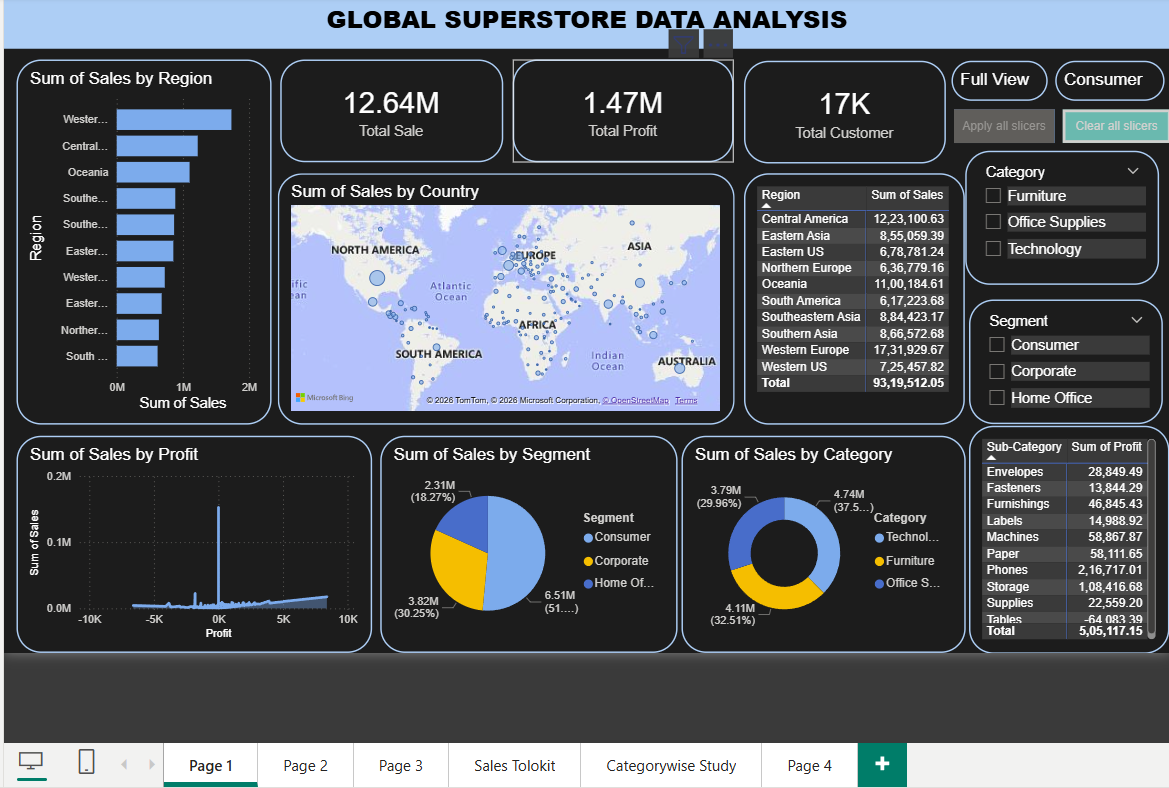

The page's visual inventory and layout, read from the dashboard file:
{"tool":"powerbi","page":{"name":"Page 1","canvas":[1280,720],"ordinal":0},"visuals":[{"type":"barChart","fields":{"Y":["Sum(Orders.Sales)"],"Category":["Orders.Region"]},"box":[13.5,68.5,280,401.1],"z":0},{"type":"textbox","box":[0,0,1280,57.1],"z":1000},{"type":"donutChart","fields":{"Y":["Sum(Orders.Sales)"],"Category":["Orders.Category"]},"box":[743.5,481.8,311.8,238.5],"z":2000},{"type":"pivotTable","fields":{"Rows":["Orders.Region"],"Values":["Sum(Orders.Sales)"]},"box":[812.2,193.3,242.8,276.1],"z":3000},{"type":"pivotTable","fields":{"Rows":["Orders.Sub-Category"],"Values":["Sum(Orders.Profit)"]},"box":[1060,470,220,250],"z":4000},{"type":"map","fields":{"Size":["Sum(Orders.Sales)"],"Category":["Orders.Country"]},"box":[300,193.8,501.2,276.2],"z":5000},{"type":"card","fields":{"Values":["Date_table.Total Sale"]},"box":[303.3,68.5,244.6,112.5],"z":6000},{"type":"card","fields":{"Values":["Date_table.Total Profit"]},"box":[558.8,68.8,242.5,112.5],"z":7000},{"type":"card","fields":{"Values":["Date_table.Total Customer"]},"box":[812,69.7,221.3,112.5],"z":8000},{"type":"pieChart","fields":{"Category":["Orders.Segment"],"Y":["Sum(Orders.Sales)"]},"box":[413.3,481.8,326.5,238.5],"z":9000},{"type":"slicer","fields":{"Values":["Orders.Segment"]},"box":[1060,331.4,212.9,137.1],"z":10000},{"type":"slicer","fields":{"Values":["Orders.Category"]},"box":[1055.7,168.6,212.9,147.1],"z":11000},{"type":"actionButton","title":"Full View","box":[1040.6,69.4,105.9,44.1],"z":12000},{"type":"actionButton","title":"Consumer","box":[1153.5,69.4,120,44.1],"z":13000},{"type":"actionButton","box":[1043.3,124.2,110,36.7],"z":14000},{"type":"actionButton","box":[1161.7,124.2,118.3,36.7],"z":15000},{"type":"areaChart","fields":{"Category":["Orders.Profit"],"Y":["Sum(Orders.Sales)"]},"box":[13.8,481.2,390,238.8],"z":16000}]}

Visuals, with their boxes on the page's 1280x720 design canvas (x1, y1, x2, y2). These are canvas units, not pixel positions in the 1169x788 screenshot, which may show the page scaled, cropped or inside an application window:
barChart - Sum(Orders.Sales) x Orders.Region: detection(14, 68, 294, 470)
textbox: detection(0, 0, 1280, 57)
donutChart - Sum(Orders.Sales) x Orders.Category: detection(744, 482, 1055, 720)
pivotTable - Orders.Region x Sum(Orders.Sales): detection(812, 193, 1055, 469)
pivotTable - Orders.Sub-Category x Sum(Orders.Profit): detection(1060, 470, 1280, 720)
map - Sum(Orders.Sales) x Orders.Country: detection(300, 194, 801, 470)
card - Date_table.Total Sale: detection(303, 68, 548, 181)
card - Date_table.Total Profit: detection(559, 69, 801, 181)
card - Date_table.Total Customer: detection(812, 70, 1033, 182)
pieChart - Orders.Segment x Sum(Orders.Sales): detection(413, 482, 740, 720)
slicer - Orders.Segment: detection(1060, 331, 1273, 468)
slicer - Orders.Category: detection(1056, 169, 1269, 316)
"Full View" actionButton: detection(1041, 69, 1146, 114)
"Consumer" actionButton: detection(1154, 69, 1274, 114)
actionButton: detection(1043, 124, 1153, 161)
actionButton: detection(1162, 124, 1280, 161)
areaChart - Orders.Profit x Sum(Orders.Sales): detection(14, 481, 404, 720)
